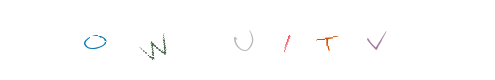1: (186, 0, 266, 80)
I: (207, 0, 287, 80)
O: (55, 0, 135, 80)
T: (264, 0, 344, 80)
U: (206, 0, 286, 80)
V: (286, 0, 366, 80)
W: (117, 0, 197, 80)
